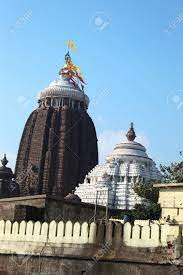Temple: (12, 43, 104, 212), (78, 128, 172, 211)
